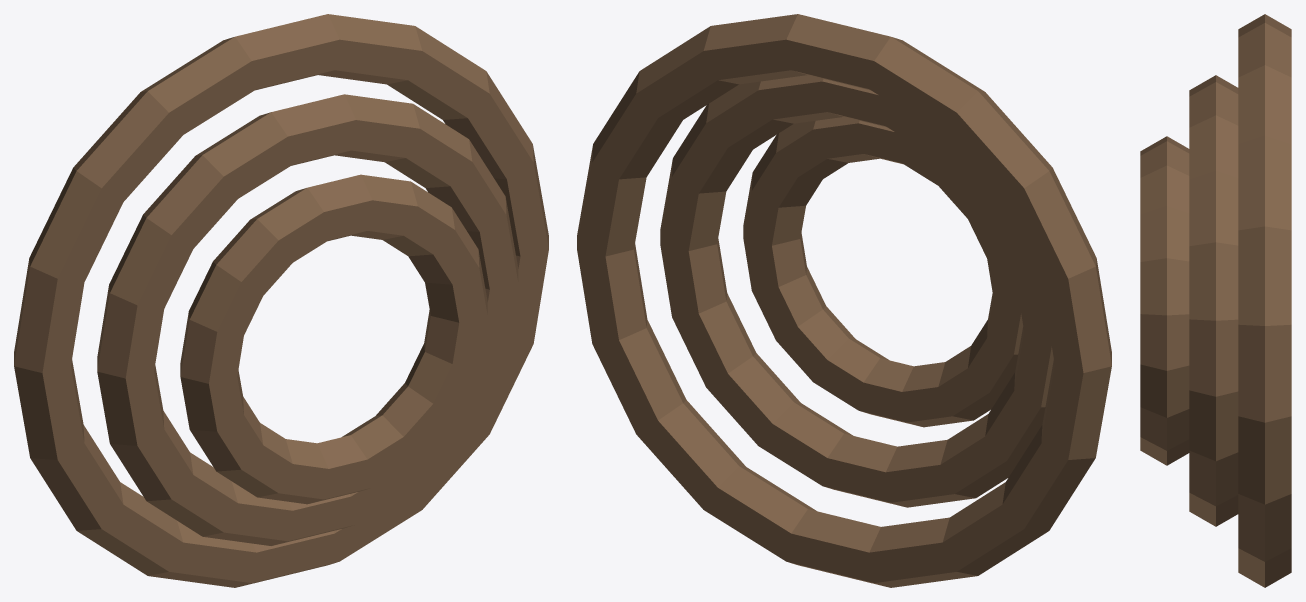
File: skyship_rope_coil.glb
3 renders of one model, left to right at view 1: azimuth 30°, elevation 25°; view 2: azimuth 150°, elevation 25°; view 3: azimuth 270°, elevation 25°, orthographic. The views are drawn at different scales.
Visible parts, largest first — view 1: coil_1, coil_2, coil_3; view 2: coil_1, coil_2, coil_3; view 3: coil_1, coil_2, coil_3.
Part boxes in pixels (bbox=[...]): coil_1: bbox=[14, 14, 548, 587]; coil_2: bbox=[97, 94, 518, 545]; coil_3: bbox=[180, 174, 487, 504]; coil_1: bbox=[577, 14, 1111, 587]; coil_2: bbox=[660, 75, 1053, 507]; coil_3: bbox=[743, 117, 1023, 427]; coil_1: bbox=[1238, 14, 1291, 587]; coil_2: bbox=[1189, 75, 1238, 526]; coil_3: bbox=[1140, 136, 1189, 465].
Size of the model in its own units: 0.94 by 0.9257 by 0.2466.
